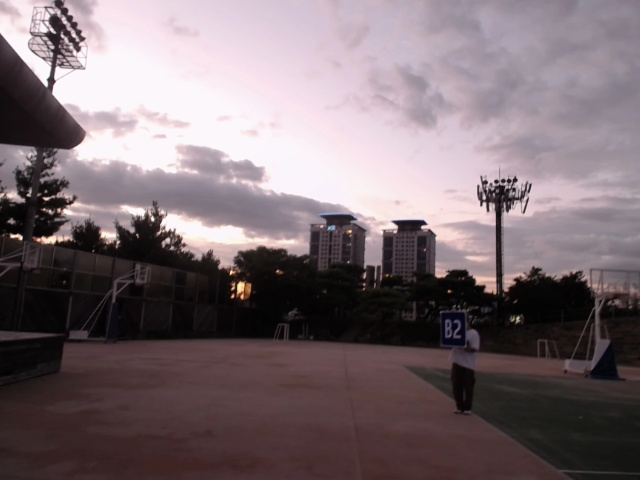delivery_b2: (439, 311, 465, 347)
